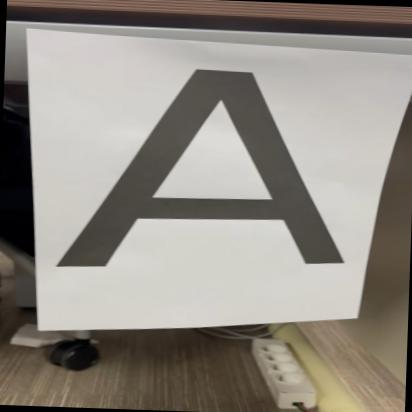seat: (37, 48, 380, 304)
